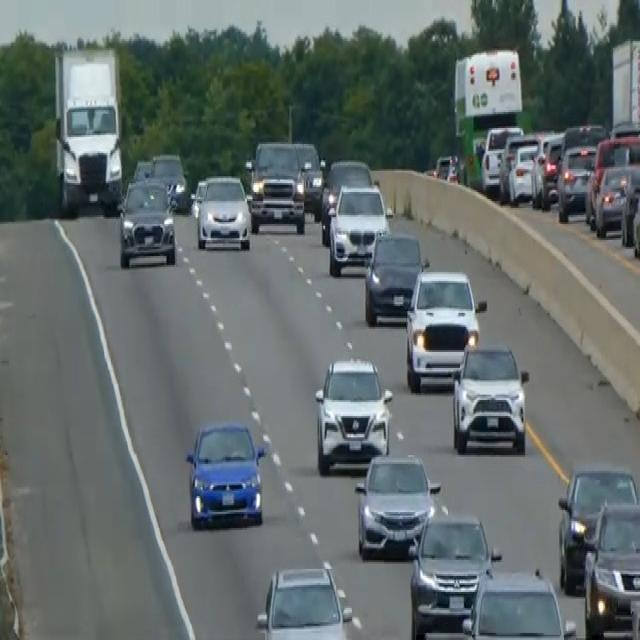car: (408, 510, 501, 638), (556, 462, 638, 594), (404, 267, 485, 391), (313, 354, 393, 473), (353, 452, 441, 558), (184, 418, 266, 528), (461, 566, 576, 638), (582, 500, 639, 638), (255, 562, 353, 638), (363, 228, 426, 326), (327, 182, 391, 276), (247, 139, 306, 233), (117, 176, 176, 268), (319, 156, 372, 244), (194, 172, 251, 250), (594, 162, 639, 238), (556, 140, 598, 220), (498, 134, 540, 206), (480, 122, 522, 194), (531, 132, 564, 208), (147, 151, 188, 210), (293, 139, 323, 213), (620, 176, 639, 245), (432, 151, 460, 183), (631, 178, 639, 261), (132, 156, 152, 182)
jeep: (450, 340, 530, 455)
lorry: (51, 45, 125, 215)
